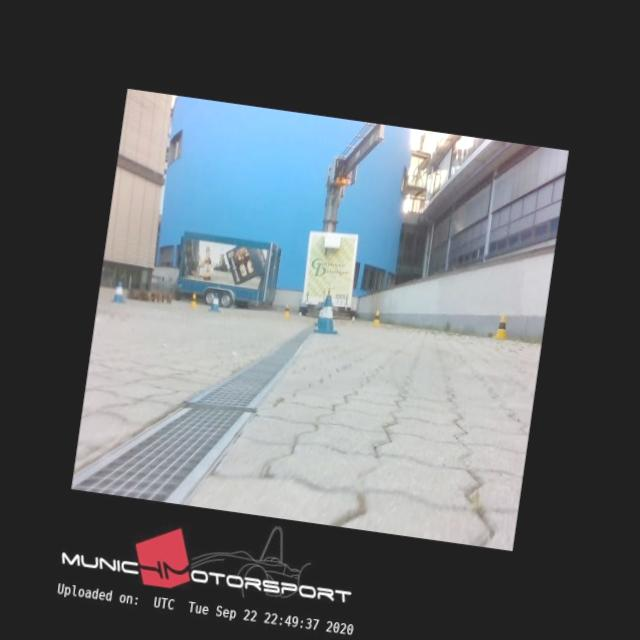blue_cone: (314, 294, 342, 335), (110, 280, 128, 304), (208, 293, 224, 314), (315, 302, 324, 327)
yellow_cone: (493, 314, 510, 340), (372, 310, 383, 328), (188, 293, 200, 309), (282, 302, 291, 316)
